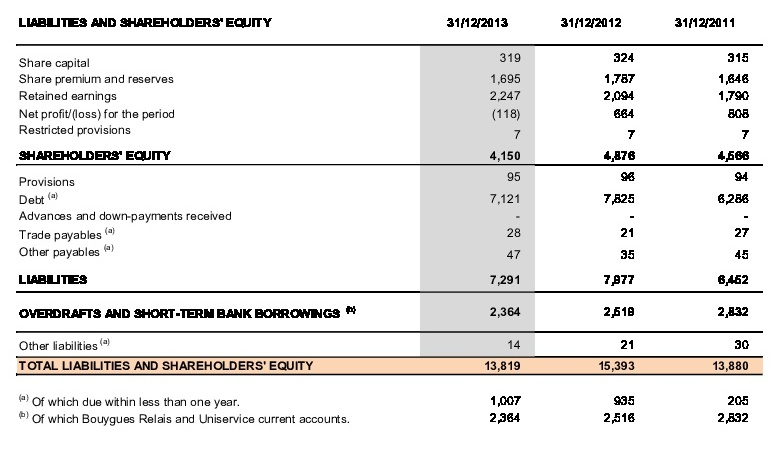table: (0, 0, 782, 449)
